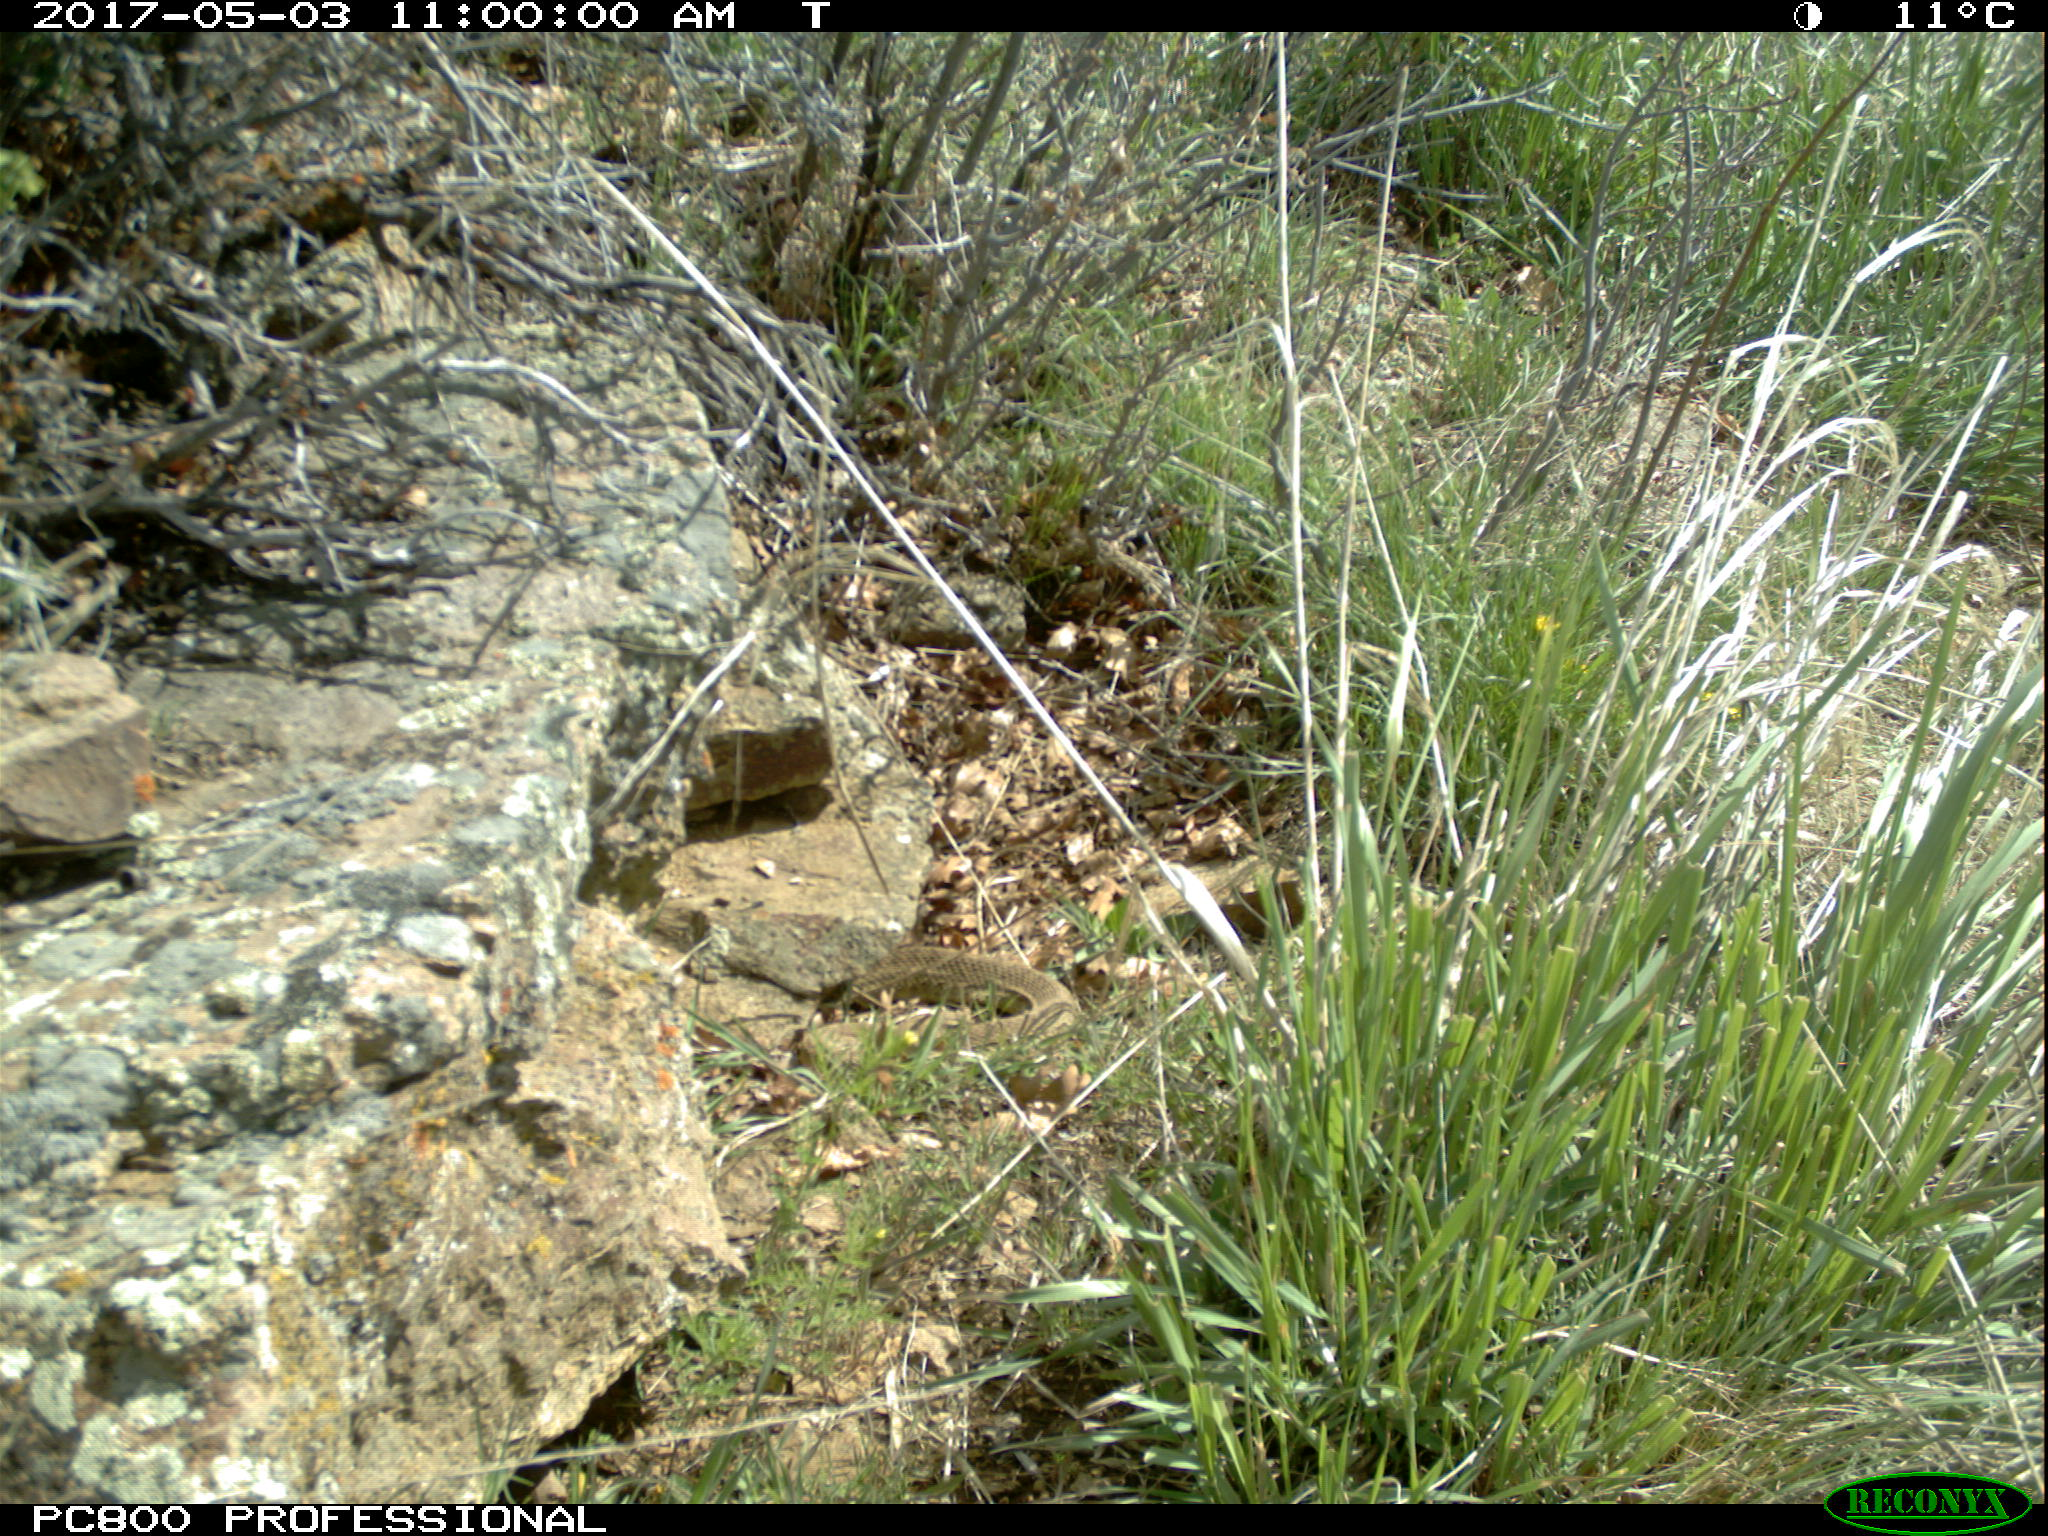snake: (830, 942, 1098, 1063)
